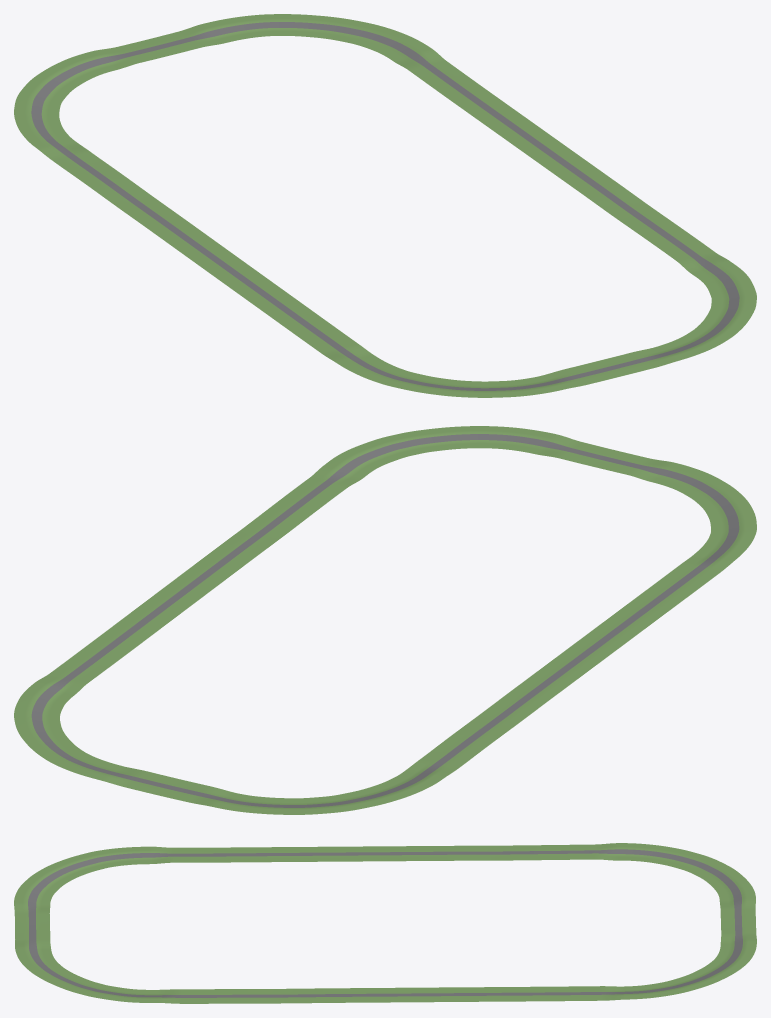
Rendered from road_mesh.glb.
3 views of the same model, one above another, from view 1: azimuth 30°, elevation 25°; view 2: azimuth 150°, elevation 25°; view 3: azimuth 270°, elevation 25° (orthographic). The views are drawn at different scales.
Parts seen in each view (by area): view 1: road_14, road_13, road_15, road_17, road_07, road_16, road_09, road_12, road_18, road_10, road_06, road_00 (+11 smaller); view 2: road_05, road_06, road_03, road_07, road_13, road_02, road_04, road_10, road_12, road_08, road_09, road_11 (+11 smaller); view 3: road_18, road_02, road_17, road_01, road_03, road_20, road_00, road_19, road_22, road_16, road_10, road_15 (+11 smaller).
Boxes of the visible parts, <box> form: road_14: <box>256,14,368,42</box>; road_13: <box>349,23,444,69</box>; road_15: <box>158,15,264,52</box>; road_17: <box>15,58,98,106</box>; road_07: <box>668,245,752,291</box>; road_16: <box>69,37,179,75</box>; road_09: <box>564,171,653,218</box>; road_12: <box>408,60,497,107</box>; road_18: <box>14,102,77,149</box>; road_10: <box>512,134,601,181</box>; road_06: <box>697,285,756,332</box>; road_00: <box>247,290,335,336</box>; road_05: <box>469,426,579,457</box>; road_06: <box>363,426,472,461</box>; road_03: <box>648,462,745,507</box>; road_07: <box>300,444,391,493</box>; road_13: <box>14,674,86,720</box>; road_02: <box>703,498,756,547</box>; road_04: <box>558,441,669,480</box>; road_10: <box>149,561,237,608</box>; road_12: <box>48,636,137,683</box>; road_08: <box>250,484,338,531</box>; road_09: <box>200,523,288,569</box>; road_11: <box>99,599,187,645</box>; road_18: <box>615,843,702,869</box>; road_02: <box>45,847,130,879</box>; road_17: <box>682,855,752,893</box>; road_01: <box>124,846,208,864</box>; road_03: <box>14,868,72,906</box>; road_20: <box>453,845,534,860</box>; road_00: <box>208,847,290,862</box>; road_19: <box>534,843,615,860</box>; road_22: <box>290,846,372,861</box>; road_16: <box>718,888,755,925</box>; road_10: <box>358,987,440,1002</box>; road_15: <box>716,925,756,960</box>.
Bounding box in the file's own units: 806 × 9.12 × 1594.
